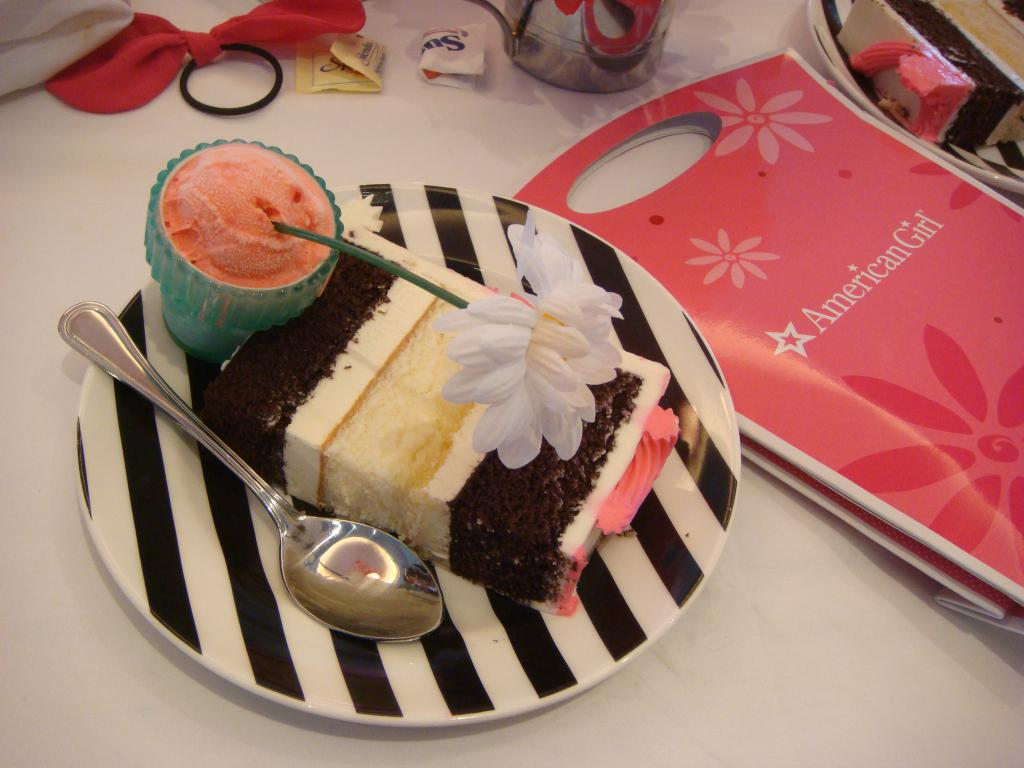cake: (193, 225, 669, 610), (141, 134, 333, 360)
